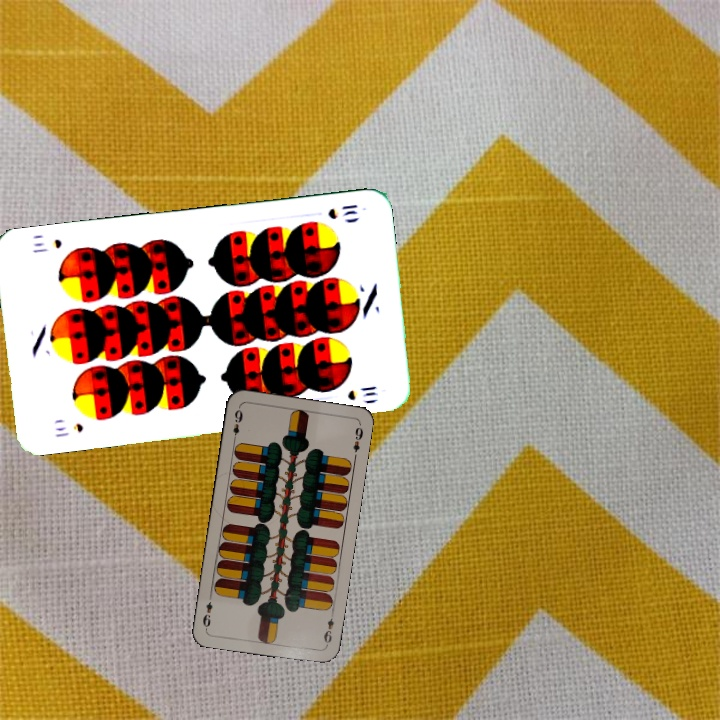E9: (320, 608, 337, 649), (229, 406, 245, 444)
S10: (323, 200, 360, 222), (51, 419, 86, 440)
